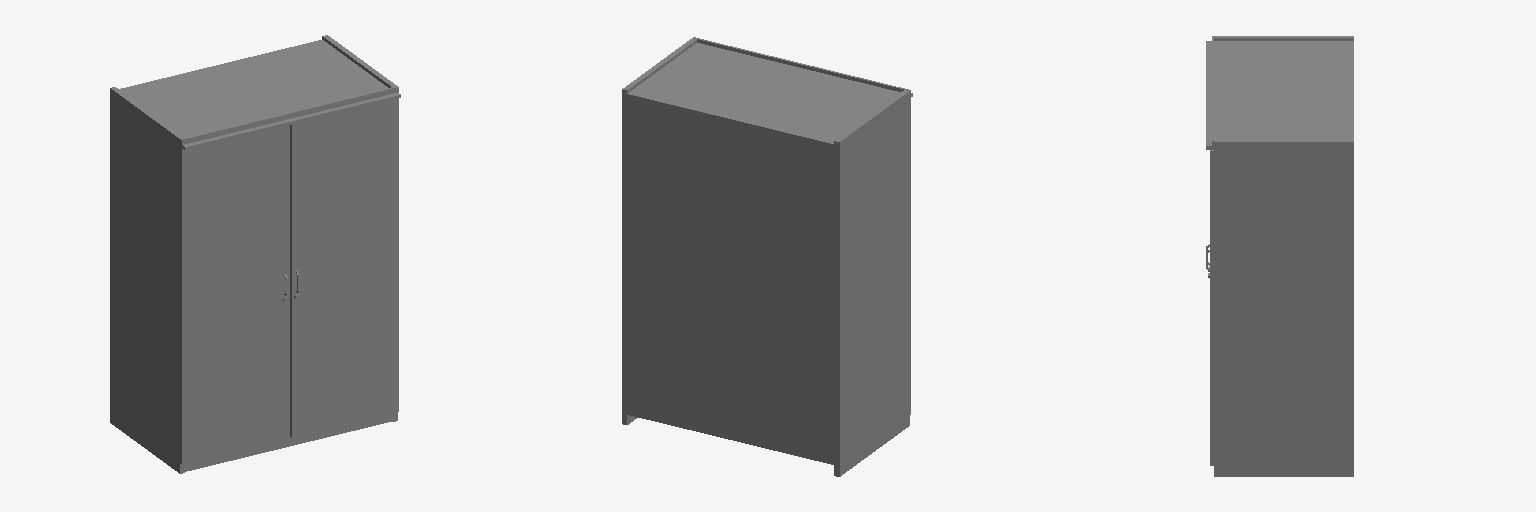
Rendered from ropero.obj.
3 views of the same model, side by side, from view 1: azimuth 30°, elevation 25°; view 2: azimuth 150°, elevation 25°; view 3: azimuth 270°, elevation 25° (orthographic).
Parts seen in each view (by area): view 1: wardrobe; view 2: wardrobe; view 3: wardrobe.
Boxes of the visible parts, x1,y1,x2,y2 form: wardrobe: [110, 35, 400, 473]; wardrobe: [622, 37, 912, 476]; wardrobe: [1206, 36, 1353, 476].
Size of the model in its own units: 134 by 196 by 79.06.